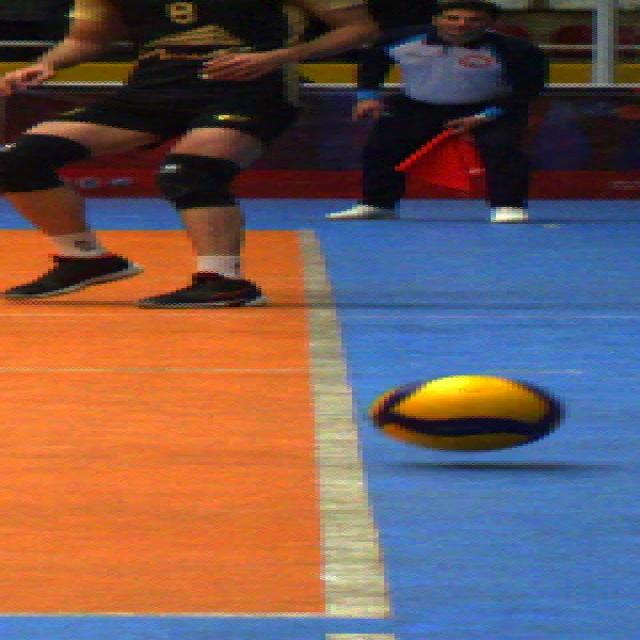Volleyball: (368, 374, 568, 453)
